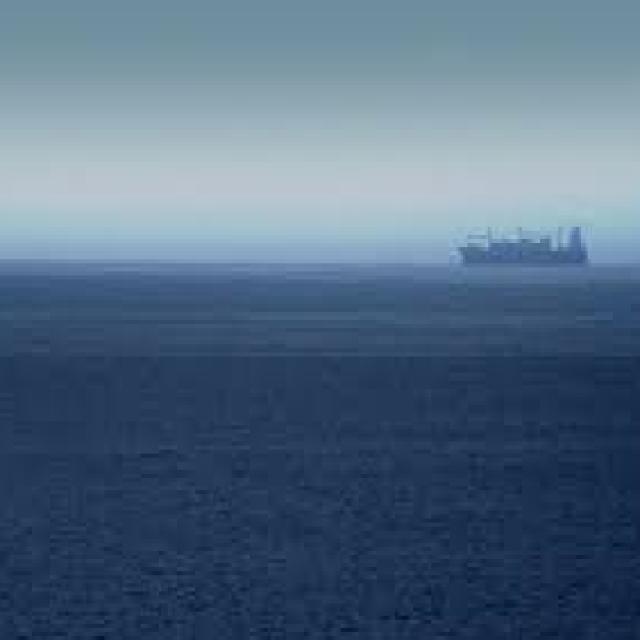cargoship: (466, 207, 601, 286)
